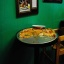pizza: (17, 27, 57, 40)
